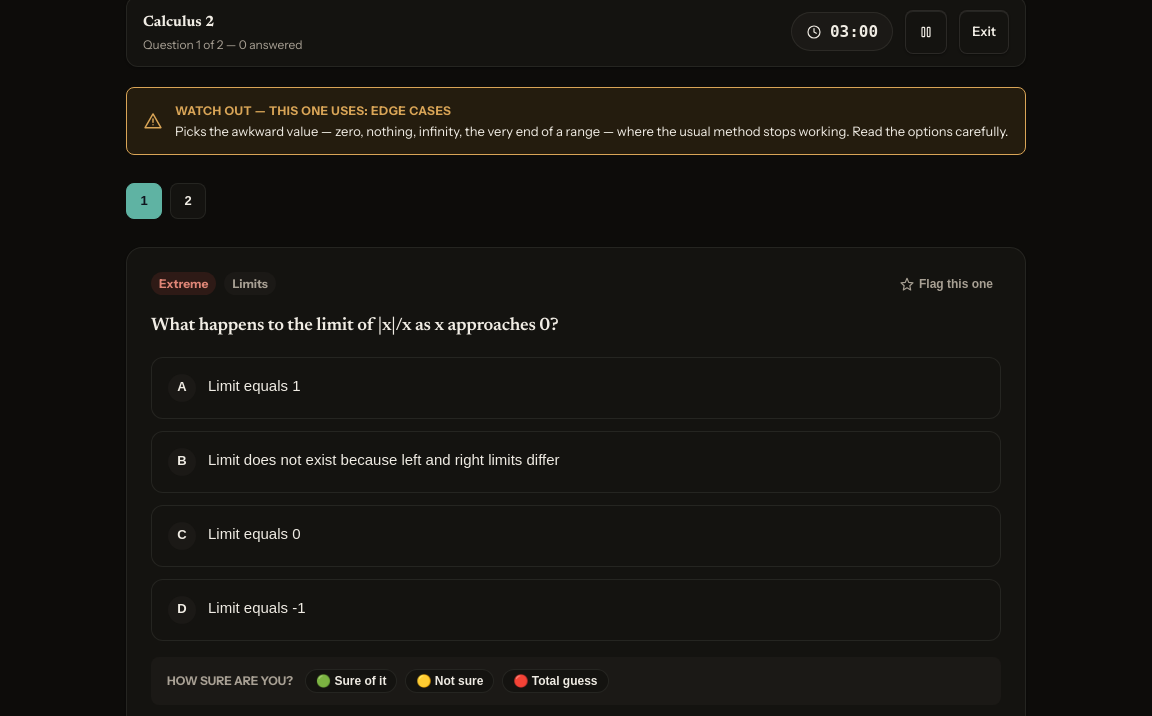
Test: StressTestRunner › handles selecting options, tagging confidence, and navigation
Click the radio button labelled "B Limit does not exist because left and right limits differ" at {"x": 384, "y": 459}, box [151,431,1001,493]
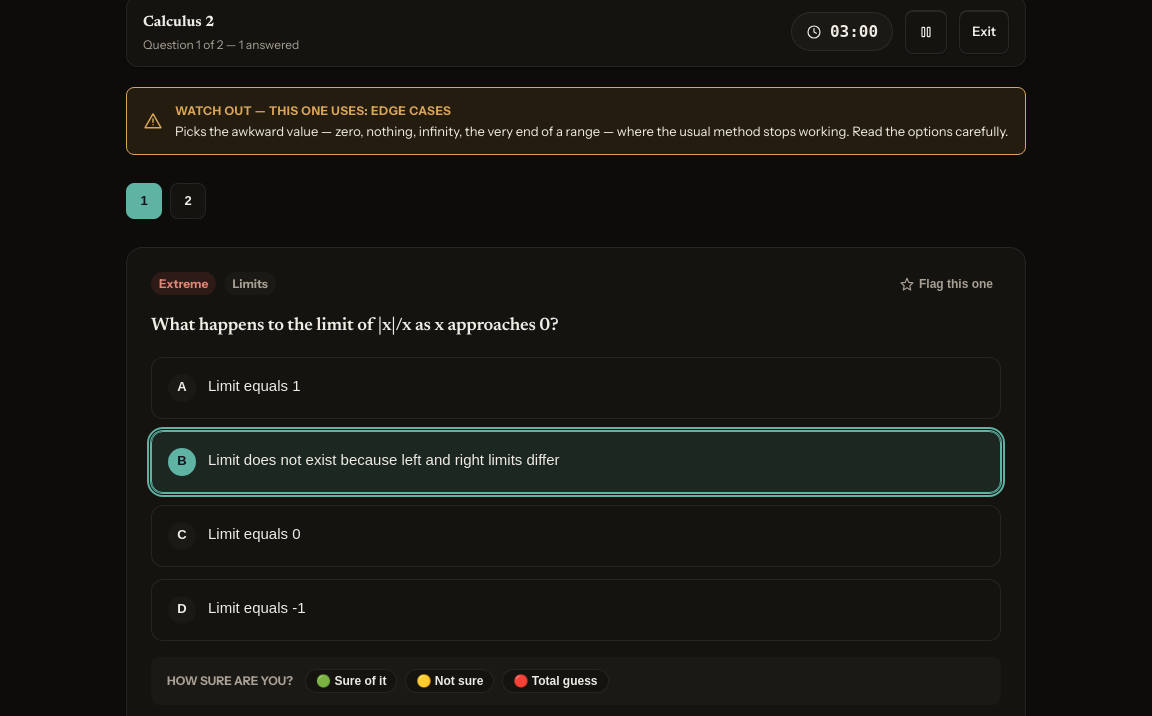
Expected: the radio button labelled "B Limit does not exist because left and right limits differ" is checked, [151,431,1001,493]
Tag confidence
Click the button "🟡 Not sure" at {"x": 450, "y": 681}, box [405,669,494,693]
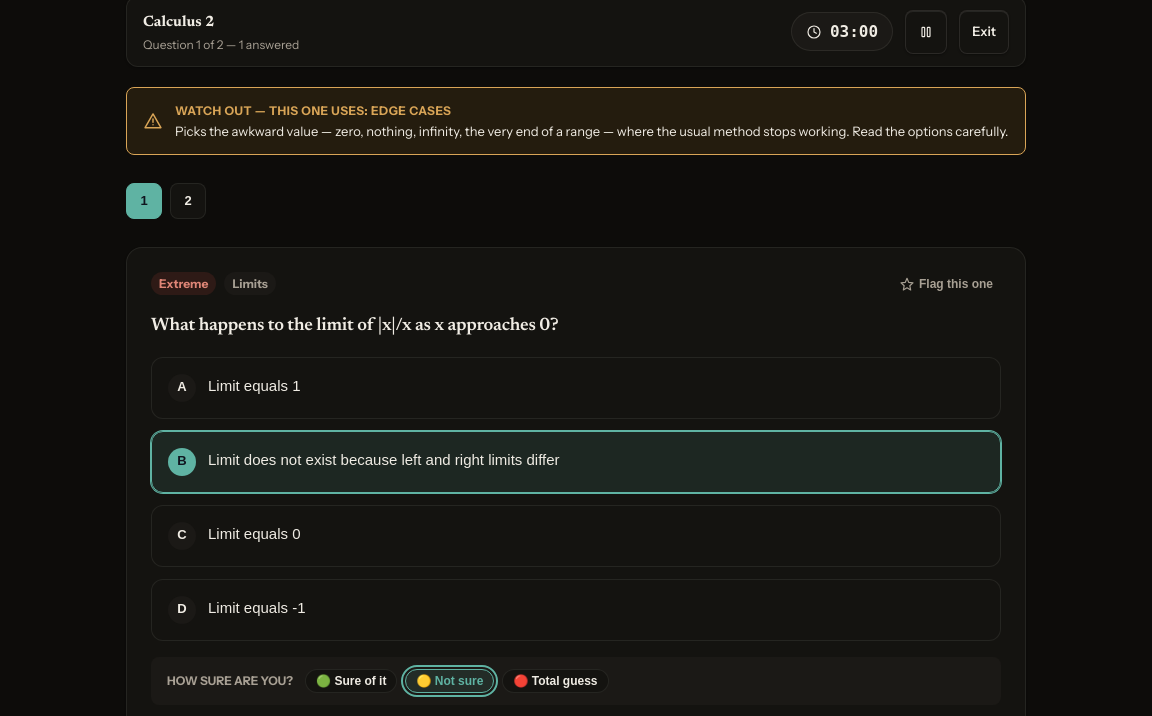
Flag question
Click the button "Flag this one" at {"x": 946, "y": 284}, box [891,272,1001,296]
(page scrolled)
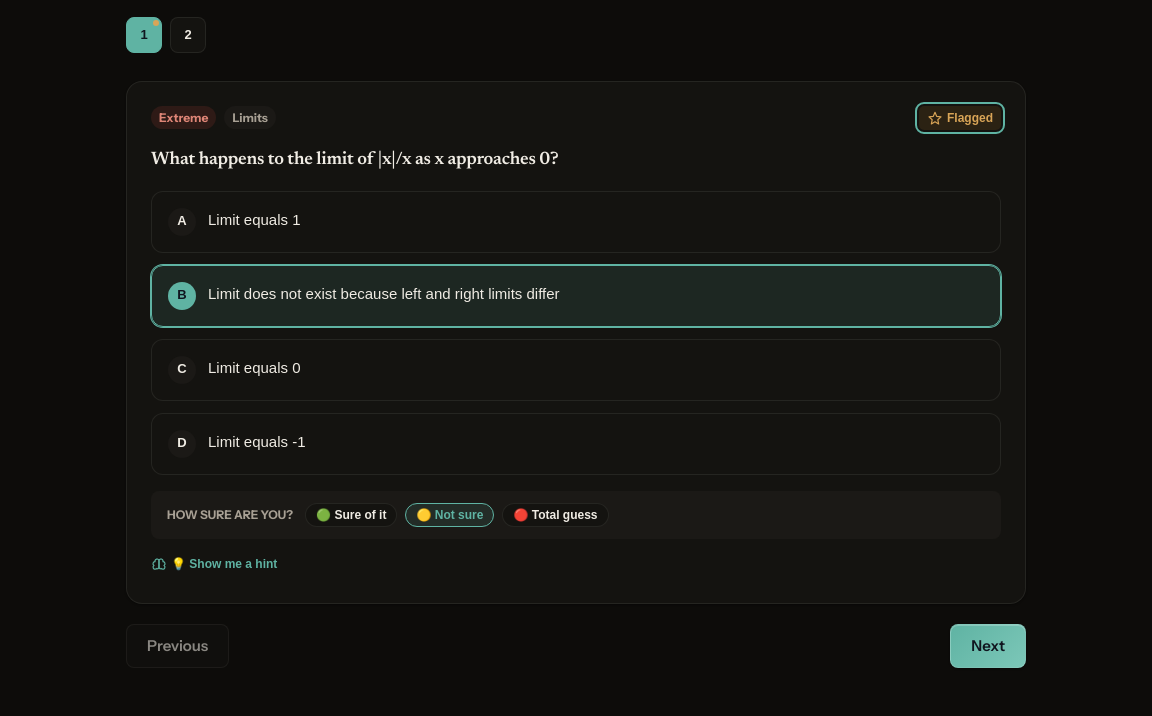
Expected: the text "Flagged" is shown, [947,111,993,125]
Reveal hint
Click the button "💡 Show me a hint" at {"x": 214, "y": 564}, box [151,556,277,572]
(page scrolled)
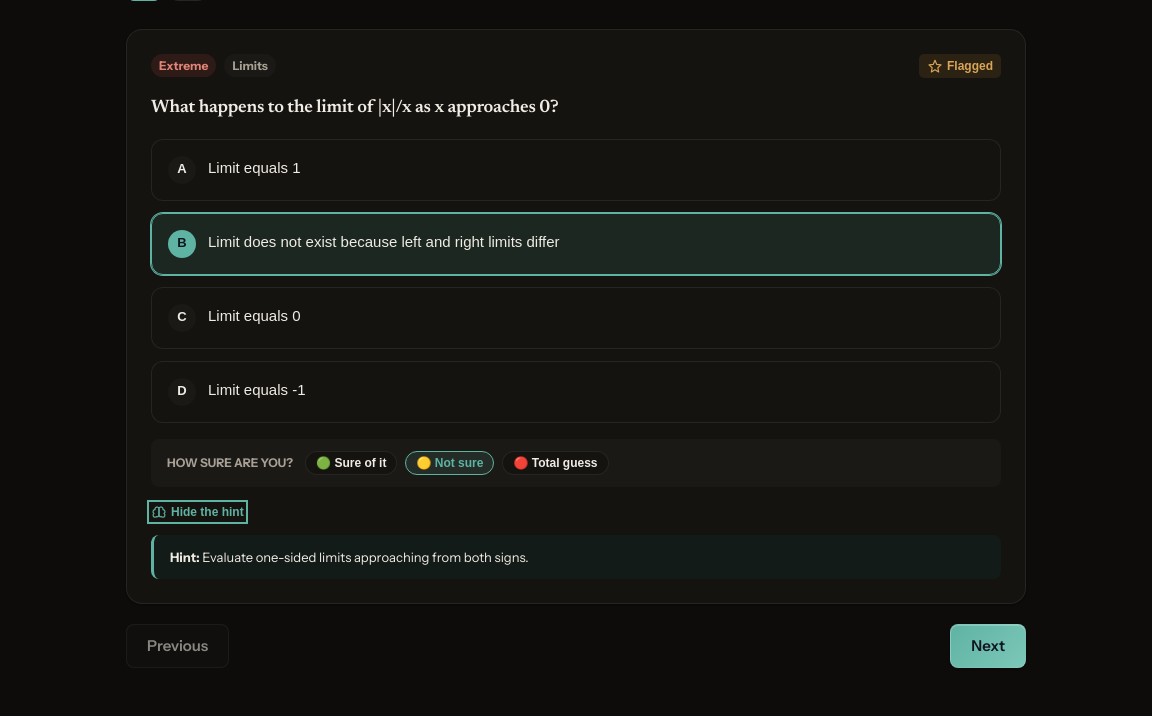
Expected: the text "Evaluate one-sided limits approaching from both signs." is shown, [202,549,529,565]
Navigate to next question
Click the button "Next" at {"x": 988, "y": 646}, box [950,624,1026,668]
(page scrolled)
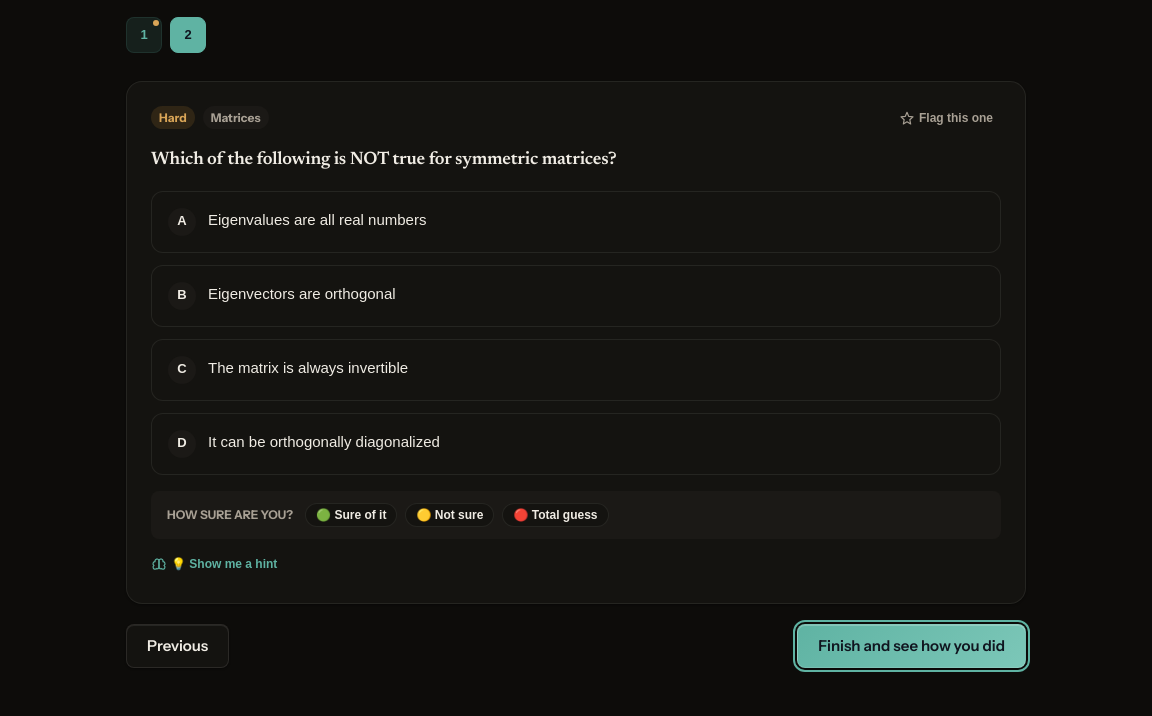
Expected: the heading "Which of the following is NOT true for symmetric matrices?" is shown, [151,151,616,169]
